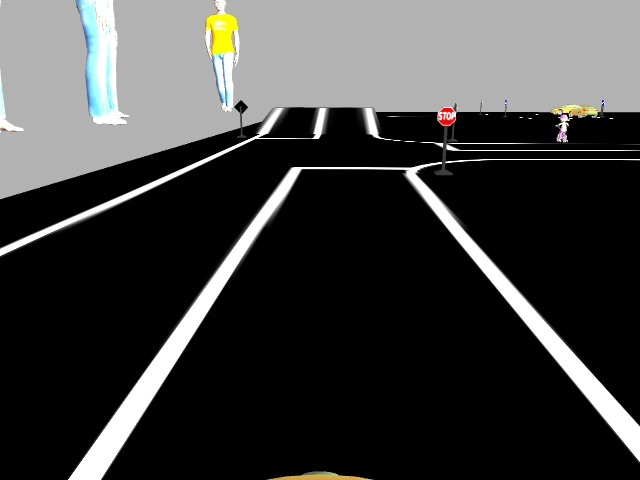Pedestrian: (554, 114, 571, 143)
Stop: (435, 105, 457, 125)
